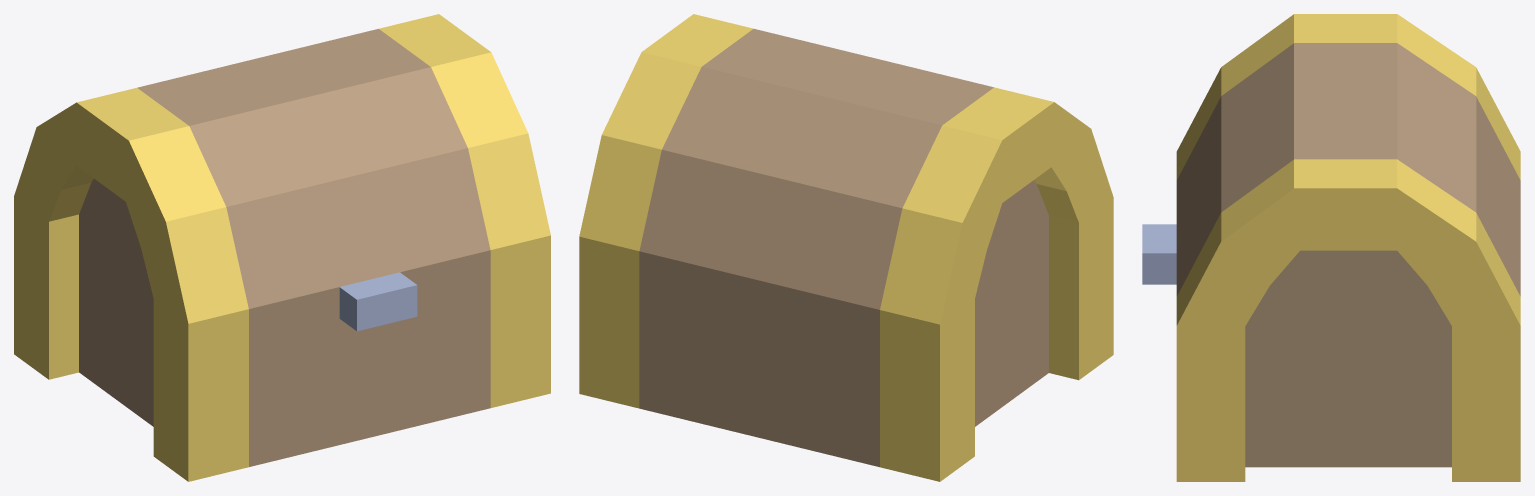
File: chest.fbx
3 views of the same model, side by side, from view 1: azimuth 30°, elevation 25°; view 2: azimuth 150°, elevation 25°; view 3: azimuth 270°, elevation 25° (orthographic).
Parts seen in each view (by area): view 1: Top, Front, Left Arch, Left Front Stud, Right Arch, Left Side_1, Left Back Stud, Right Front Stud, Lock, Left Side; view 2: Top, Back, Left Arch, Right Arch, Left Back Stud, Left Side_1, Left Front Stud, Right Back Stud, Left Side; view 3: Top, Right Arch, Right Side_1, Right Front Stud, Right Back Stud, Left Arch, Right Side, Lock.
Boxes of the visible parts, left/top/right/bottom form: Top: left=137, top=29, right=490, bottom=308; Front: left=249, top=250, right=490, bottom=466; Left Arch: left=14, top=88, right=248, bottom=323; Left Front Stud: left=153, top=299, right=248, bottom=481; Right Arch: left=379, top=14, right=550, bottom=249; Left Side_1: left=79, top=214, right=153, bottom=426; Left Back Stud: left=14, top=196, right=78, bottom=379; Right Front Stud: left=490, top=235, right=550, bottom=407; Lock: left=339, top=272, right=417, bottom=331; Left Side: left=79, top=178, right=144, bottom=261; Top: left=639, top=29, right=993, bottom=309; Back: left=639, top=251, right=879, bottom=467; Left Arch: left=880, top=87, right=1113, bottom=324; Right Arch: left=579, top=14, right=753, bottom=250; Left Back Stud: left=880, top=299, right=974, bottom=481; Left Side_1: left=975, top=216, right=1048, bottom=426; Left Front Stud: left=1049, top=198, right=1113, bottom=380; Right Back Stud: left=579, top=236, right=639, bottom=408; Left Side: left=984, top=180, right=1048, bottom=262; Top: left=1176, top=43, right=1520, bottom=296; Right Arch: left=1176, top=159, right=1520, bottom=325; Right Side_1: left=1245, top=311, right=1451, bottom=467; Right Front Stud: left=1176, top=326, right=1245, bottom=481; Right Back Stud: left=1452, top=326, right=1520, bottom=481; Left Arch: left=1176, top=14, right=1520, bottom=179; Right Side: left=1254, top=250, right=1442, bottom=311; Lock: left=1142, top=224, right=1176, bottom=284.
Size of the model in its own units: 75 by 58.84 by 68.75.
1 material, 1 textured.
